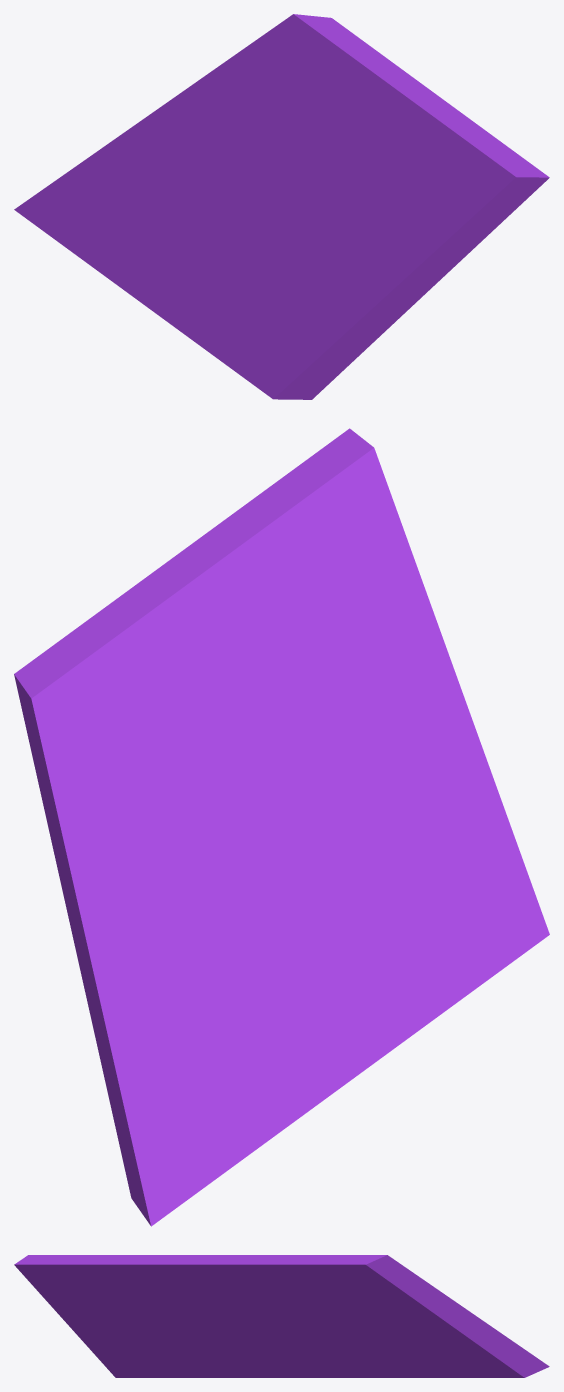
The model's file is Window_117.fbx.
3 views of the same model, one above another, from view 1: azimuth 30°, elevation 25°; view 2: azimuth 150°, elevation 25°; view 3: azimuth 270°, elevation 25° (orthographic). The views are drawn at different scales.
Parts seen in each view (by area): view 1: Window_117; view 2: Window_117; view 3: Window_117.
Part boxes in pixels (box(x1,y1,x2,y2)): Window_117: box(14, 14, 549, 399); Window_117: box(14, 428, 549, 1226); Window_117: box(14, 1255, 549, 1377).
Size of the model in its own units: 720 by 763 by 2038.
